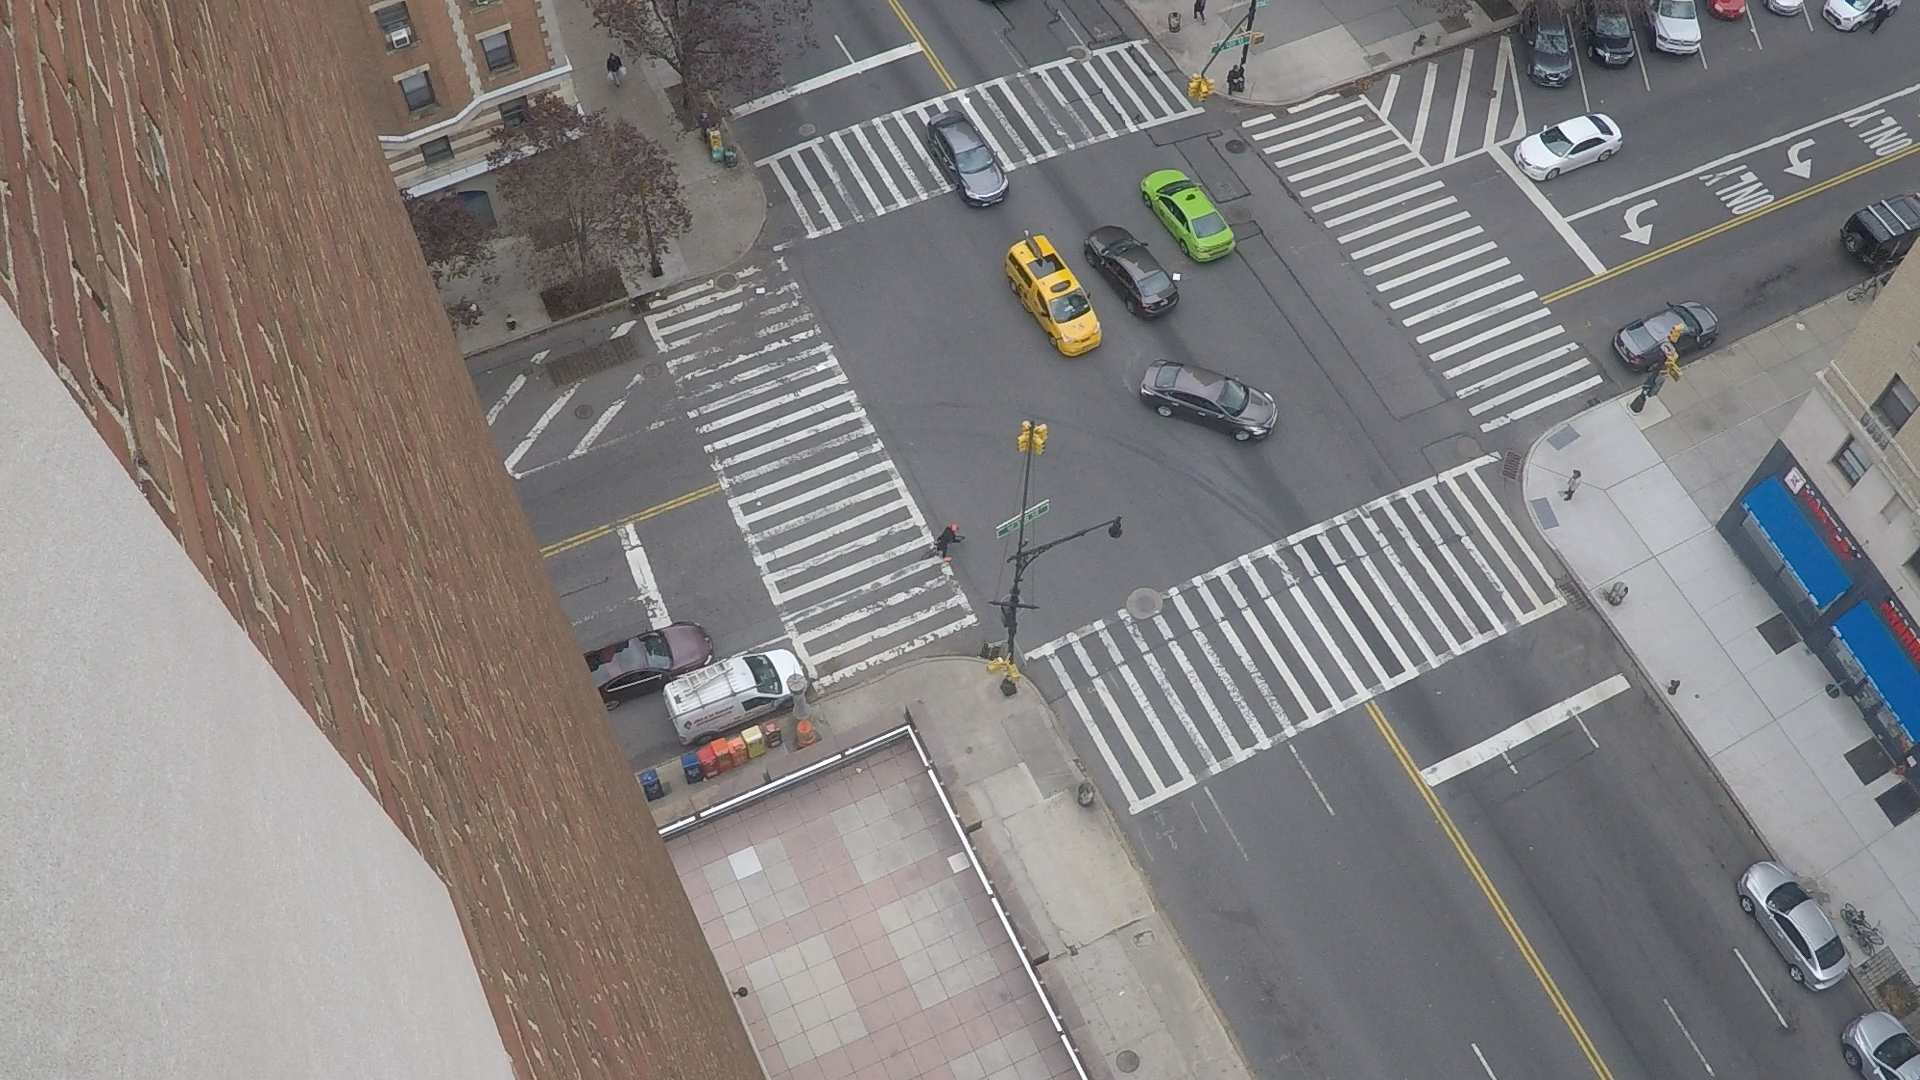Car: (1642, 1, 1652, 38), (1916, 191, 1919, 209), (1128, 310, 1136, 315), (1526, 48, 1527, 64), (1016, 294, 1021, 298), (1140, 189, 1141, 195)
Pedestrian: (611, 50, 615, 54), (948, 557, 951, 558)
